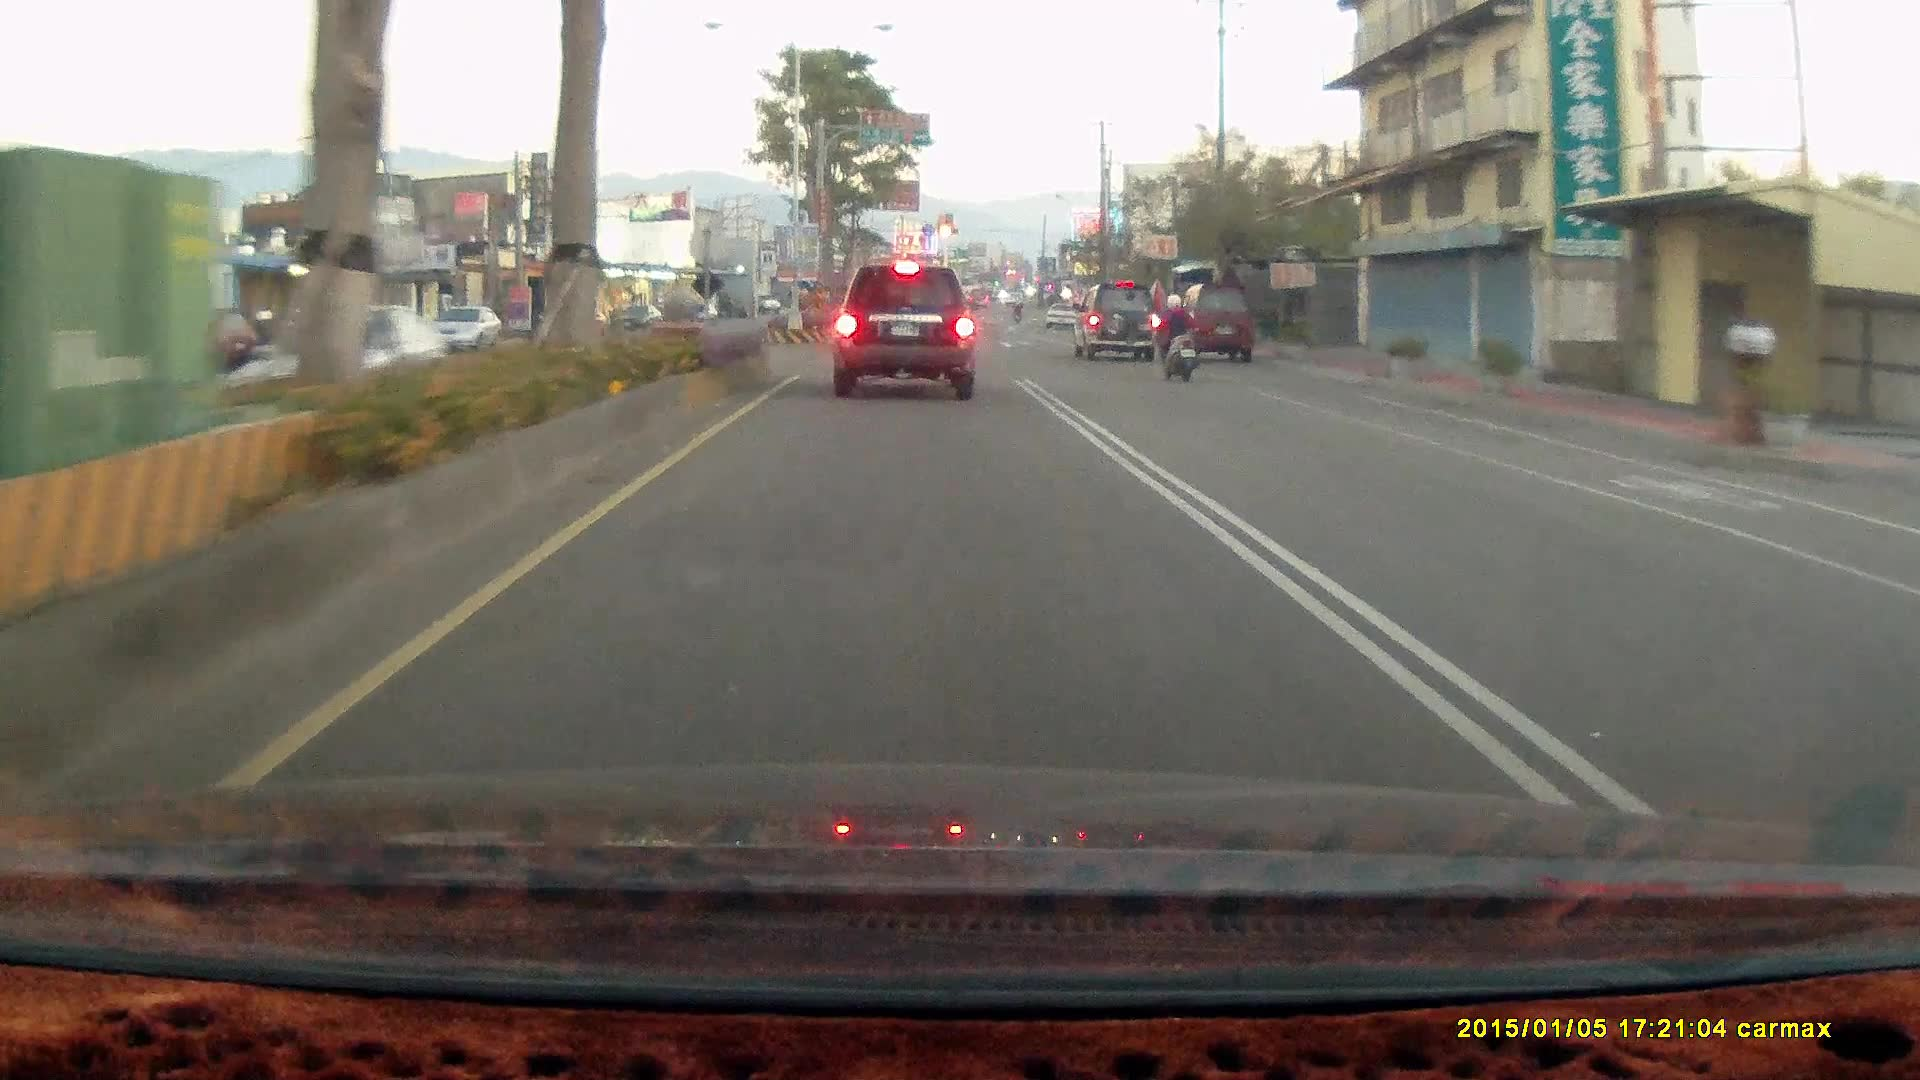rider: (1146, 286, 1205, 386), (1145, 290, 1196, 381)
vehicle: (831, 256, 984, 405), (832, 264, 977, 400), (1077, 281, 1169, 365), (1175, 281, 1258, 368), (1067, 279, 1157, 359), (1178, 280, 1253, 360), (425, 302, 503, 347)
